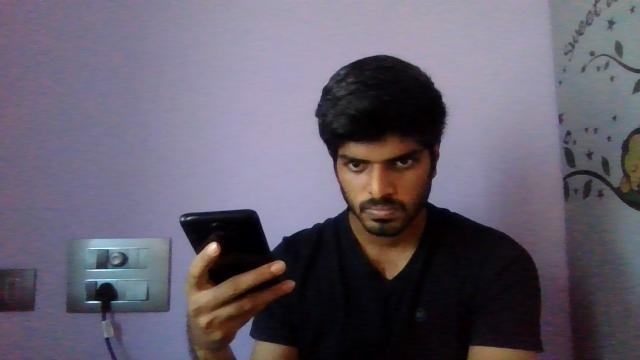PhoneUse: (176, 210, 272, 300)
SafeDriving: (339, 145, 373, 174), (385, 146, 421, 173)
